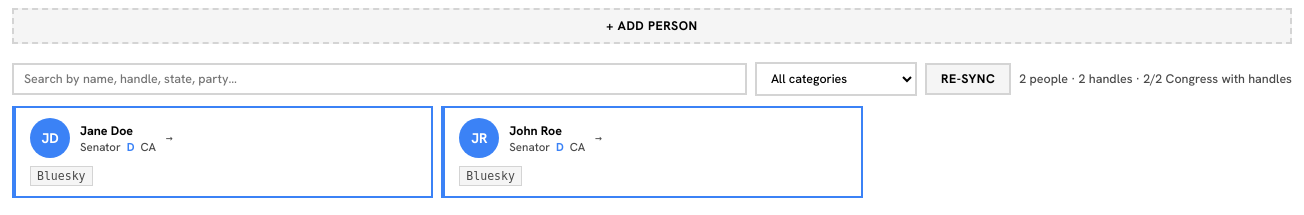
it: PeopleTab — search + filter › filters by name match (case-insensitive)
Expected: the text "Jane Doe" is shown, left=80, top=122, right=133, bottom=138
Type "jane" into the field with placeholder "Search by name, handle, state, party…" at (379, 79), box left=12, top=63, right=747, bottom=95
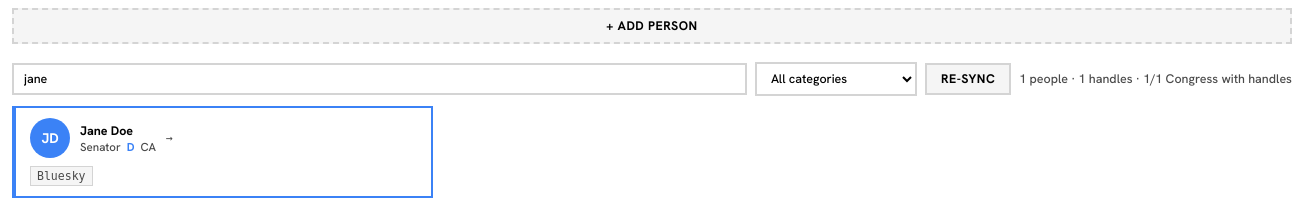
Expected: the text "Jane Doe" is shown, left=80, top=122, right=133, bottom=138
Result: the button "John Roe" is gone
